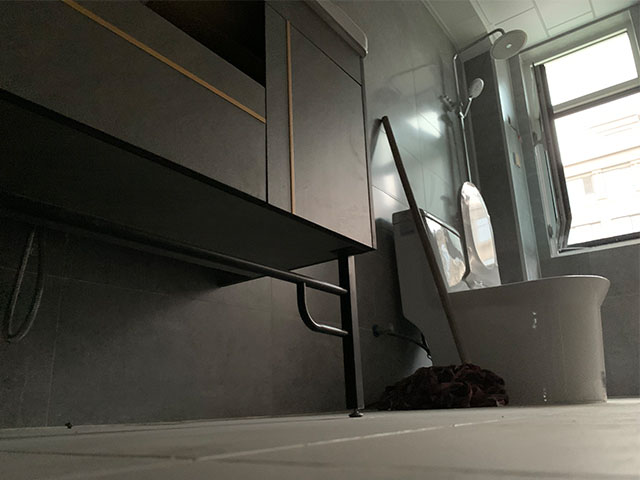closestool: (392, 180, 612, 406)
